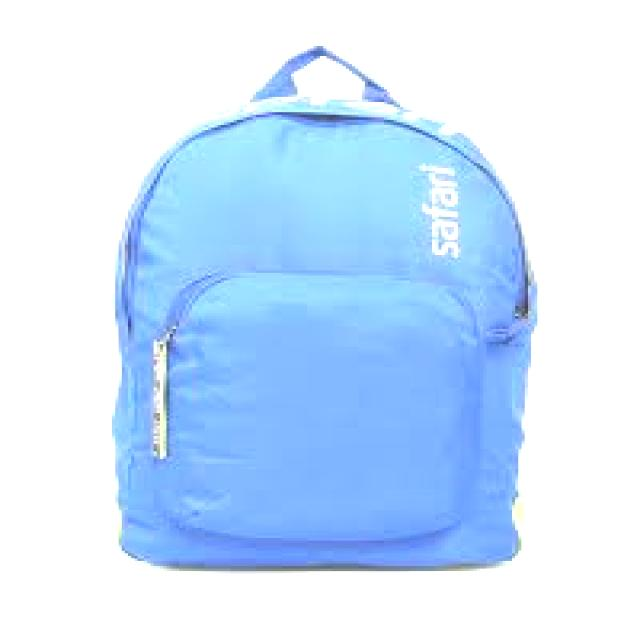backpack: (110, 44, 539, 570)
